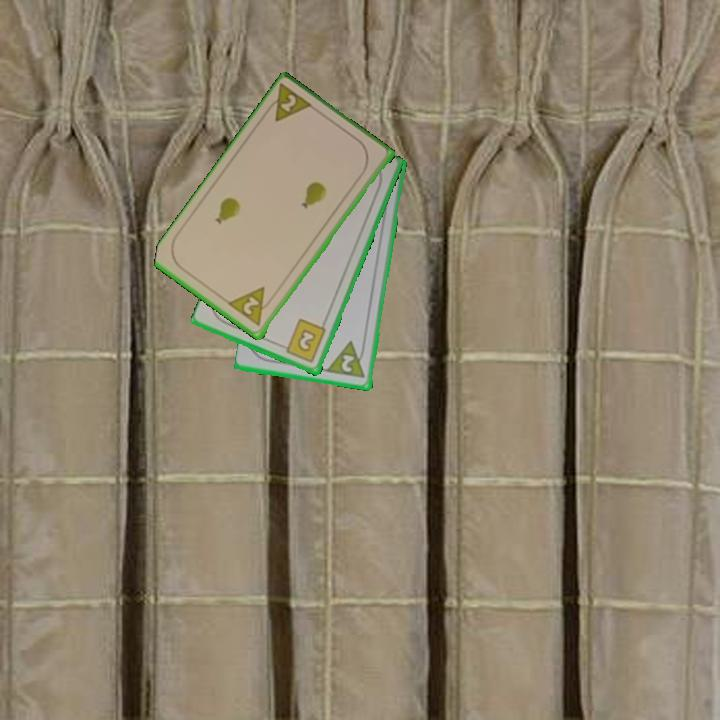2b: (278, 316, 329, 366)
2p: (261, 81, 317, 126), (226, 284, 277, 329), (325, 338, 369, 381)
